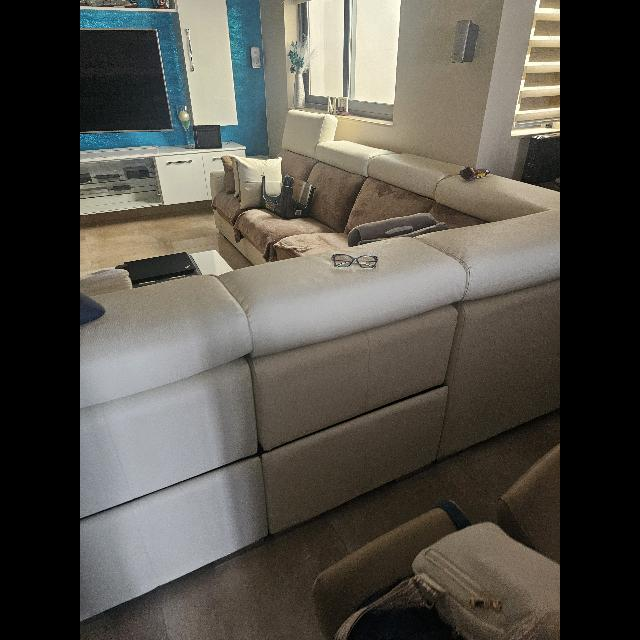glasses: (332, 254, 378, 268)
